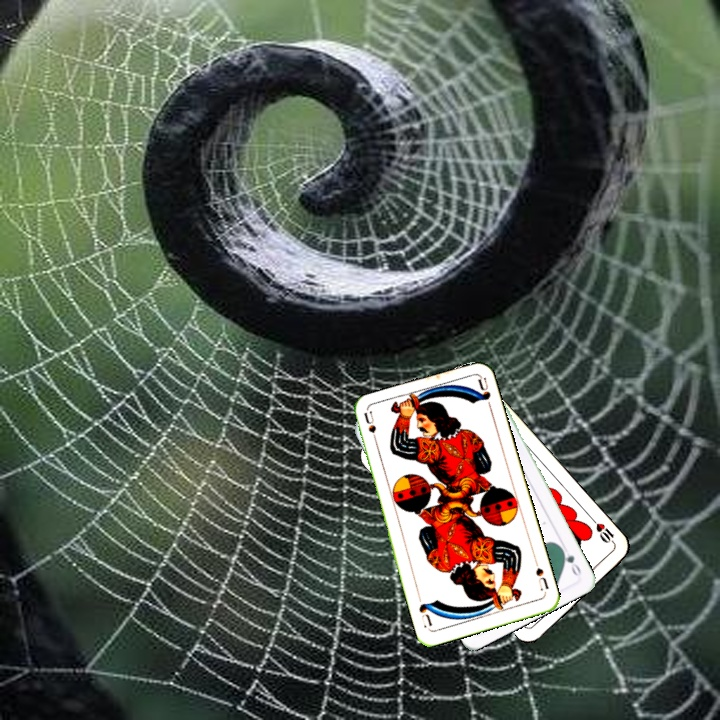GO: (556, 543, 584, 579)
H10: (588, 514, 618, 548)
SU: (360, 408, 381, 449), (531, 556, 551, 596)
